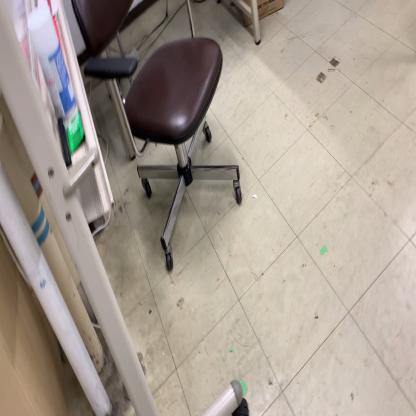chair: (67, 0, 244, 274)
